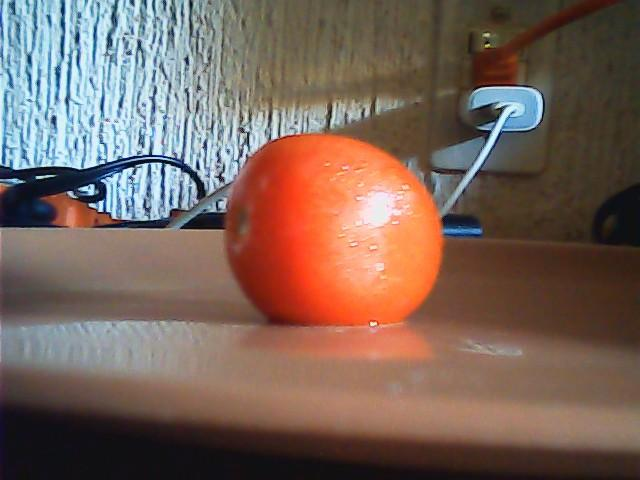maduro: (220, 130, 444, 323)
